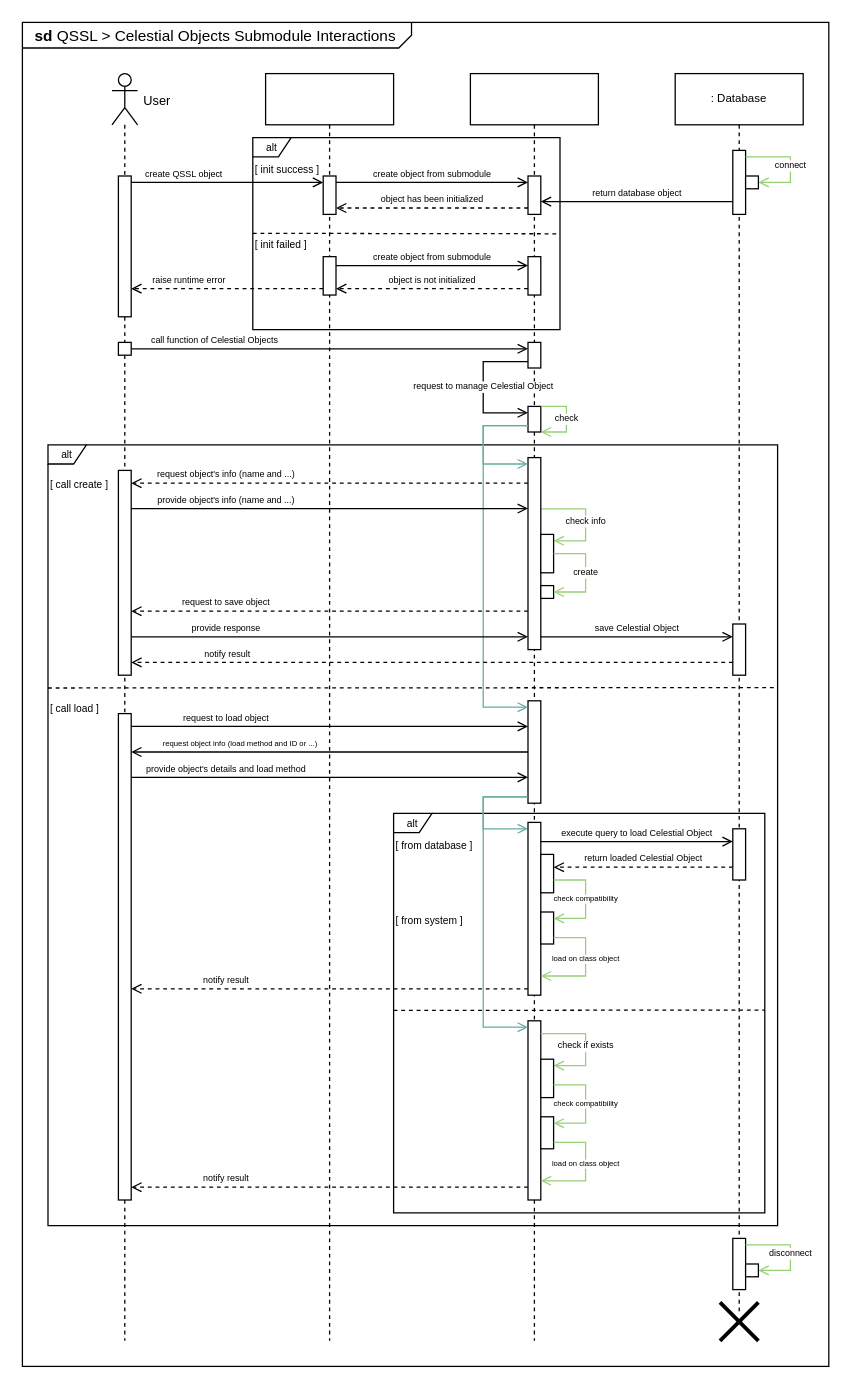
The diagram is 851 pixels wide and 1389 high, and some of its shapes have lost their labels. The shapes that lost their labels are listed below. From the top down, each one's box as (x1, y1, x2, y2) in pixels, then its label:
(264, 72, 394, 1341): : QSSL Library
(469, 72, 598, 1341): : CelestialObjects
